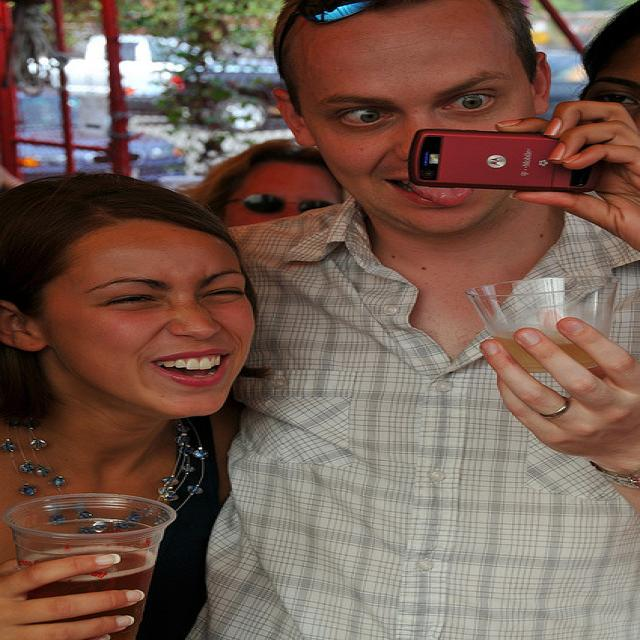Vehicle: (24, 95, 181, 179), (60, 33, 218, 109), (176, 59, 286, 127), (171, 73, 290, 127)
